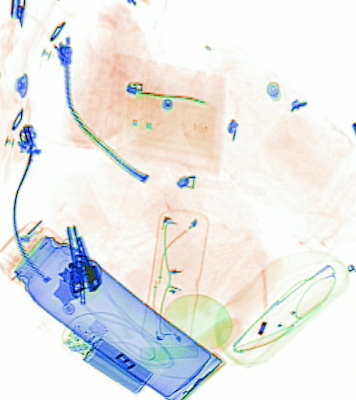powerbank: (61, 321, 151, 394)
